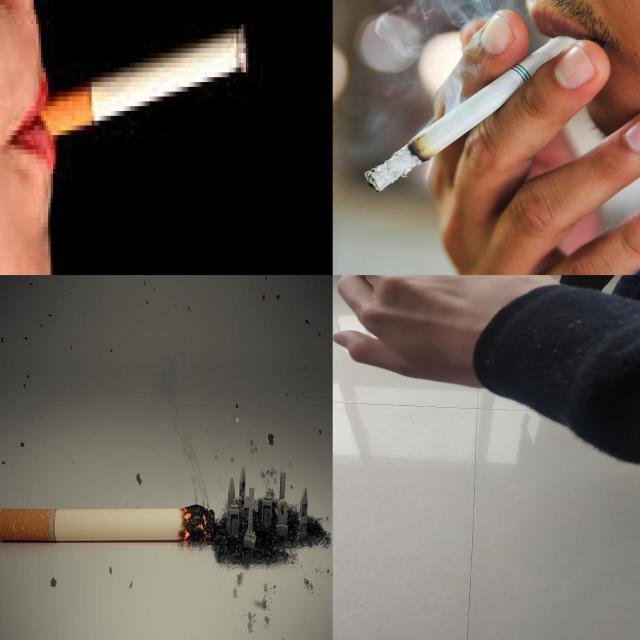cigarette: (364, 34, 584, 194), (32, 24, 248, 142), (0, 507, 215, 540)
